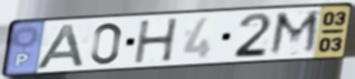0: (90, 21, 124, 66)
2: (234, 12, 275, 59)
4: (180, 15, 216, 62)
A: (33, 22, 87, 70)
H: (133, 17, 180, 65)
M: (267, 8, 324, 58)
